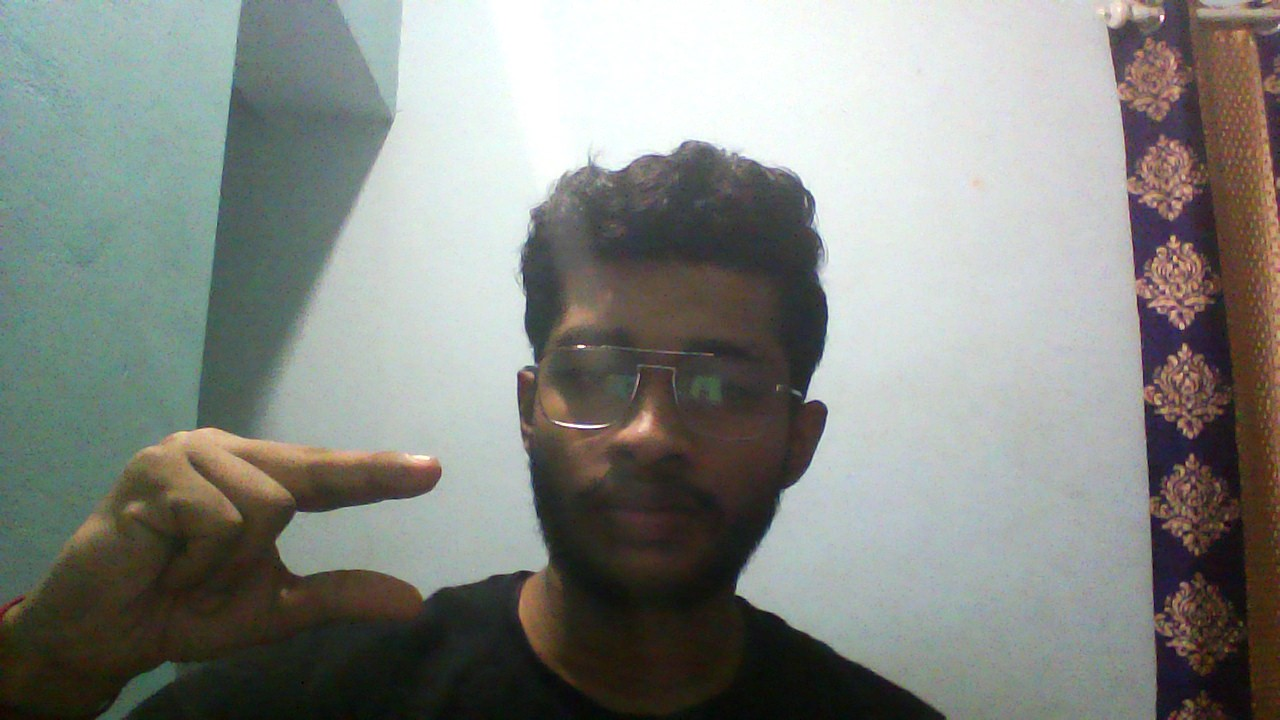No: (1, 420, 444, 667)
